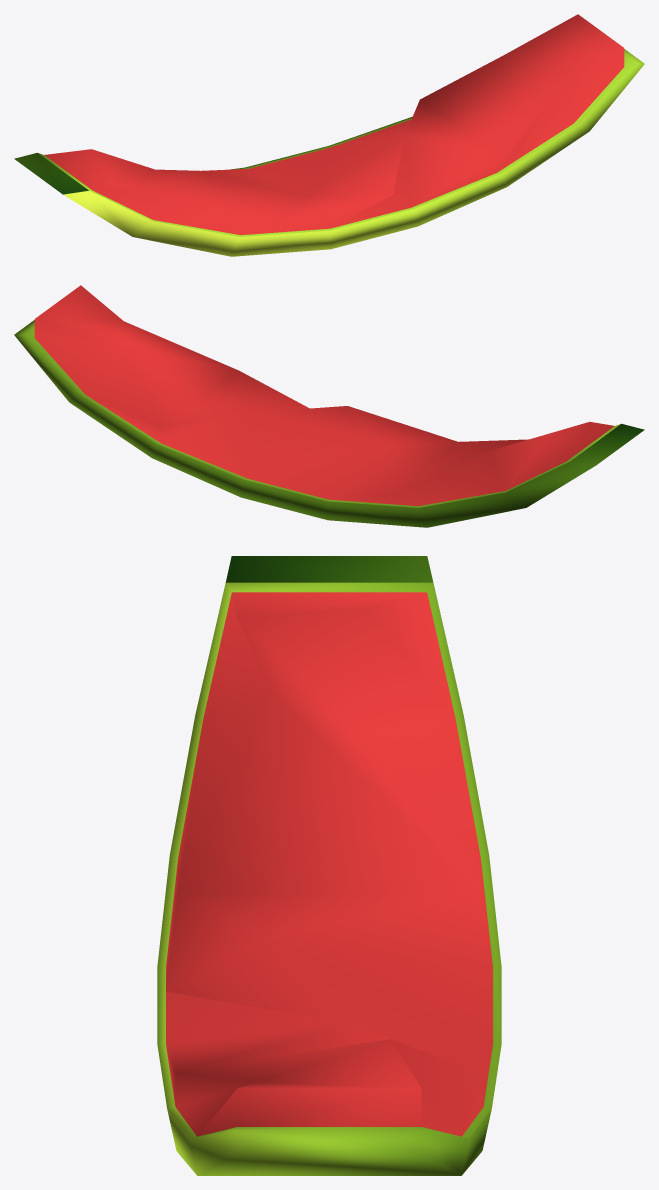
The model's file is Melonslice.fbx.
3 renders of one model, top to bottom at view 1: azimuth 30°, elevation 25°; view 2: azimuth 150°, elevation 25°; view 3: azimuth 270°, elevation 25°, orthographic. The views are drawn at different scales.
Visible parts, largest first — view 1: MelonSlice; view 2: MelonSlice; view 3: MelonSlice.
Boxes of the visible parts, x1,y1,x2,y2 form: MelonSlice: (14, 14, 644, 256); MelonSlice: (14, 285, 644, 527); MelonSlice: (157, 556, 501, 1175).
Size of the model in its own units: 33.98 by 6.27 by 8.67.
